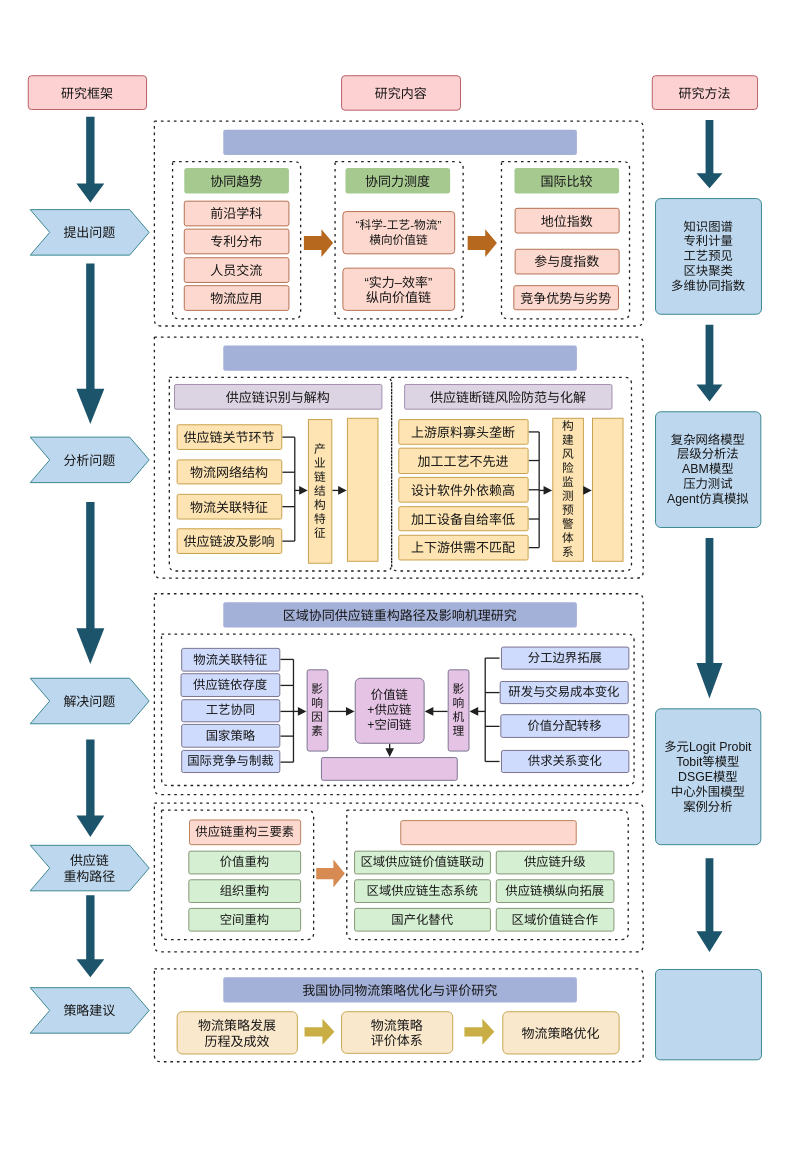
Image size: 806x1155. Some labels were removed from this diagram. Here are the shapes that lost their labels. From the top down, the centre of each, then its label:
(400,142): 区域协同趋势、协同力测度与国际比较研究
(400,357): 区域协同供应链的识别、解构与风险防范研究
(362,489): 为产 业链 重构 提供 现实 依据
(607,489): 提出 物流 链重 构最 优路 径
(389,769): 供应链重构影响机理
(488,832): 半导体供应链重构模式与路径
(708,1014): SCP模型 SWOT分析 SPACE矩阵 PMC指数模型
